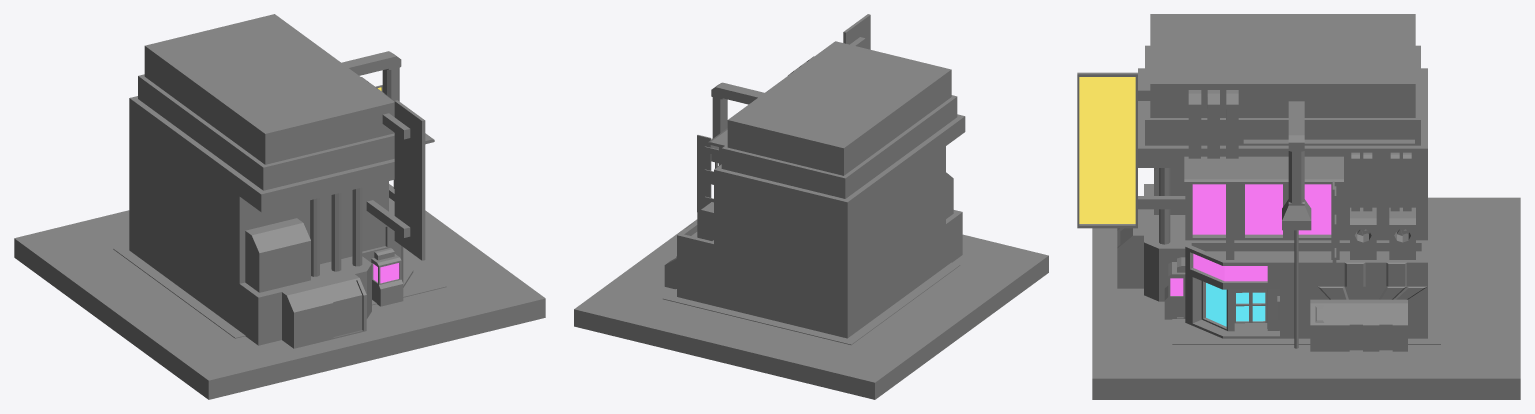
3 views of the same model, side by side, from view 1: azimuth 30°, elevation 25°; view 2: azimuth 150°, elevation 25°; view 3: azimuth 270°, elevation 25° (orthographic). The views are drawn at different scales.
Visible parts, largest first — view 1: Cube; view 2: Cube; view 3: Cube.
Boxes of the visible parts, <box> form: Cube: <box>14,14,545,399</box>; Cube: <box>574,14,1048,399</box>; Cube: <box>1077,14,1520,399</box>.
Bounding box in the file's own units: 90.53 × 59.95 × 93.75.
